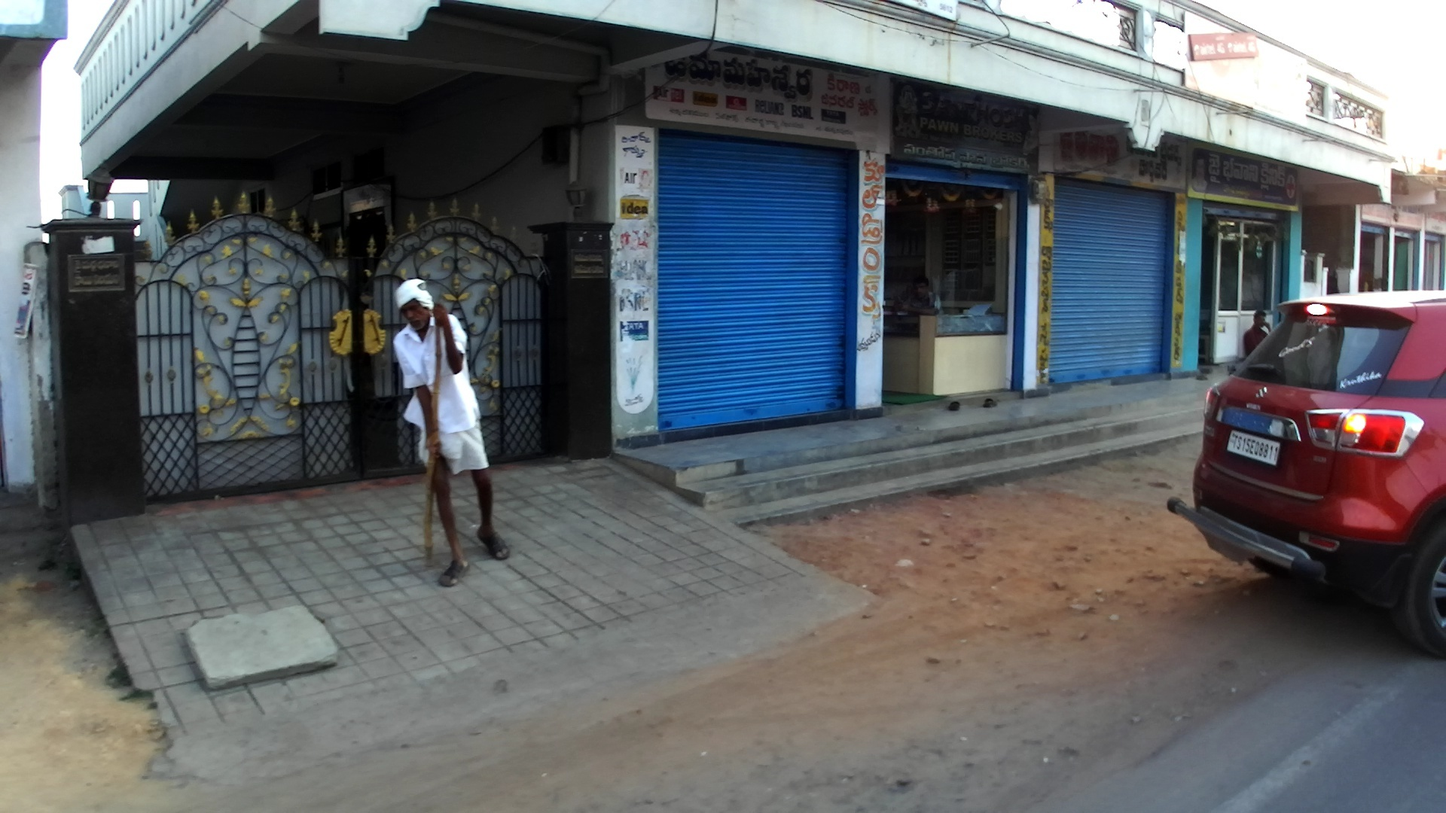car: (1165, 289, 1446, 658)
person: (388, 281, 513, 589), (1241, 310, 1271, 358)
